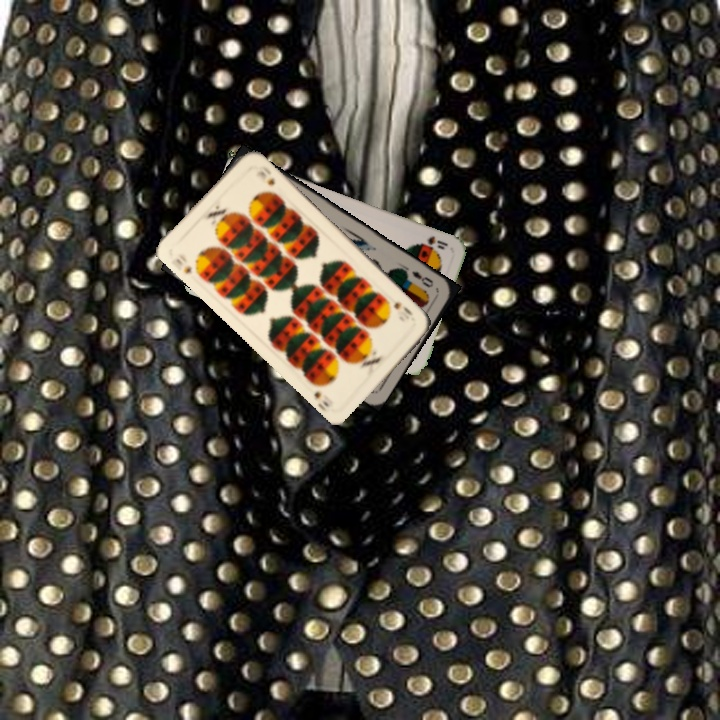EO: (408, 267, 436, 290)
S10: (169, 254, 195, 276), (389, 298, 415, 318)
SO: (417, 232, 450, 252)
